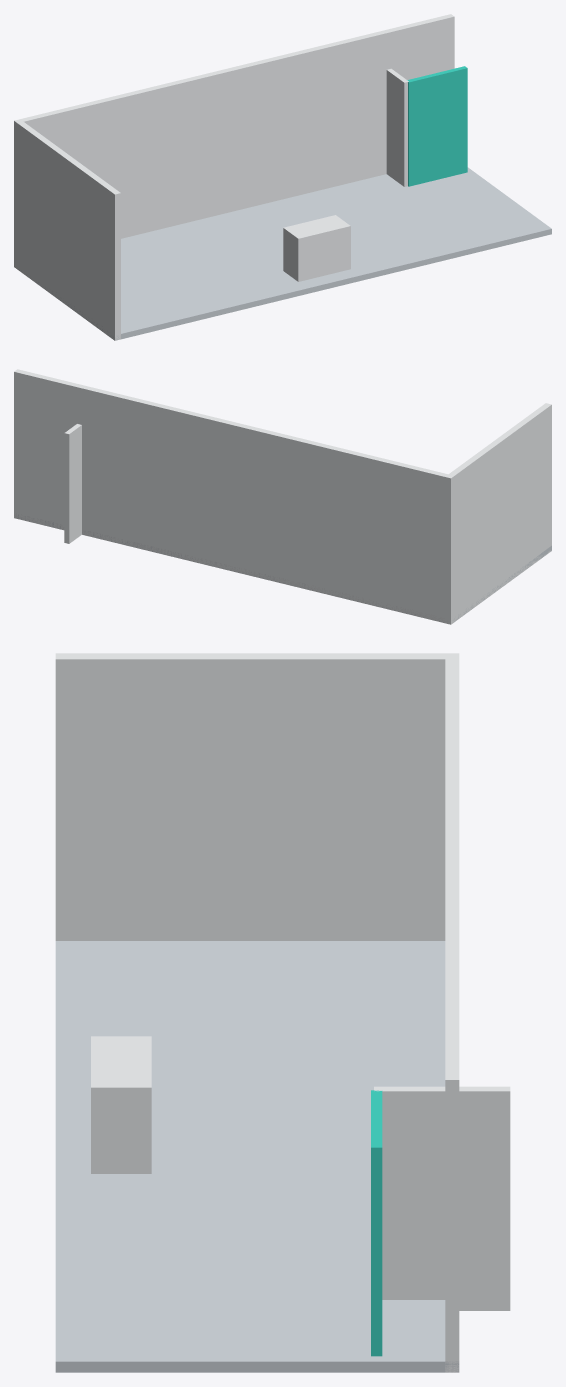
The picture shows the model from 3 angles, top to bottom: view 1: azimuth 30°, elevation 25°; view 2: azimuth 150°, elevation 25°; view 3: azimuth 270°, elevation 25°; orthographic projection. The views are drawn at different scales.
Parts seen in each view (by area): view 1: Exhibition Booth Concept; view 2: Exhibition Booth Concept; view 3: Exhibition Booth Concept.
Part boxes in pixels (x1=…): Exhibition Booth Concept: x1=14, y1=14, x2=551, y2=340; Exhibition Booth Concept: x1=14, y1=369, x2=551, y2=624; Exhibition Booth Concept: x1=55, y1=653, x2=510, y2=1372.
Bounding box in the file's own units: 10 × 3.2 × 4.51.
